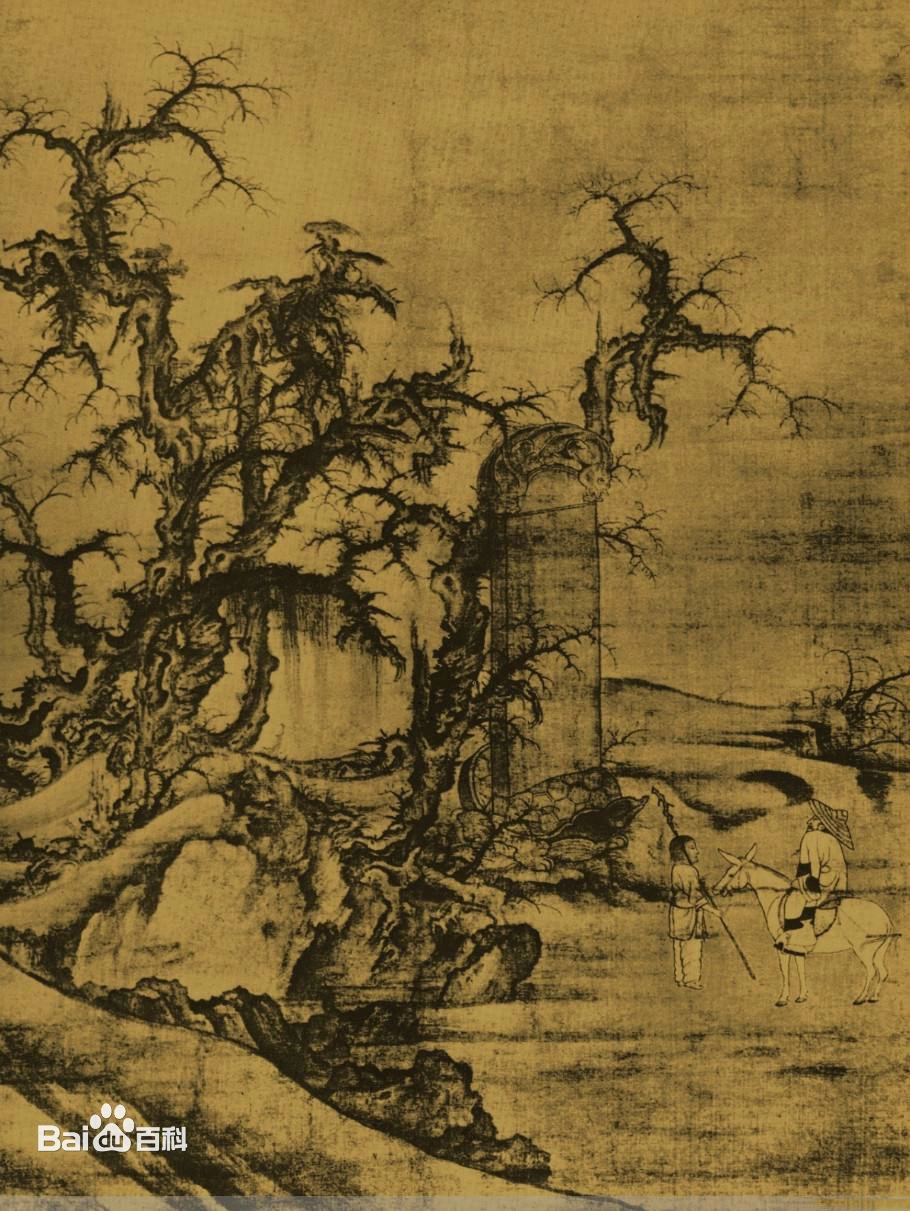grave: (472, 424, 634, 822)
horse: (724, 853, 899, 1008)
kid: (659, 827, 720, 990)
man: (782, 791, 854, 955)
rock: (2, 741, 548, 1007)
tree: (1, 43, 481, 804), (565, 160, 800, 441), (796, 641, 910, 765)
